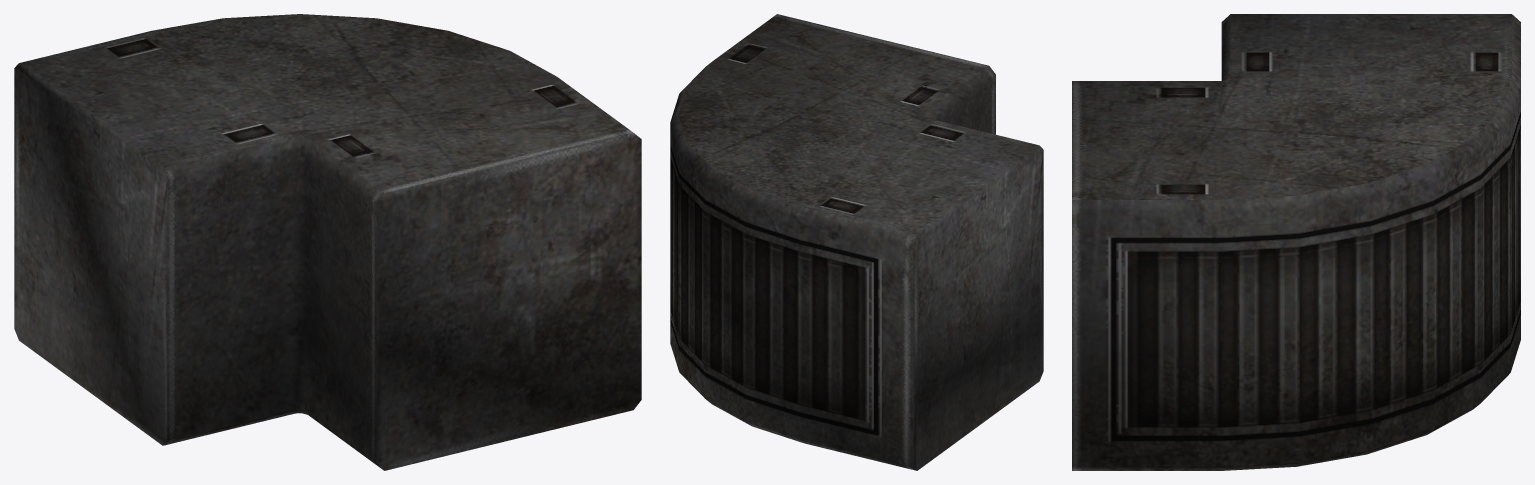
File: girder_lab_turn_90_small.dae
3 renders of one model, left to right at view 1: azimuth 30°, elevation 25°; view 2: azimuth 150°, elevation 25°; view 3: azimuth 270°, elevation 25°, orthographic. The views are drawn at different scales.
Parts seen in each view (by area): view 1: polySurface5; view 2: polySurface5; view 3: polySurface5.
Boxes of the visible parts, x1,y1,x2,y2 form: polySurface5: (14, 14, 641, 470); polySurface5: (670, 14, 1043, 470); polySurface5: (1072, 14, 1520, 470).
Bounding box in the file's own units: 0.375 × 0.25 × 0.375.
